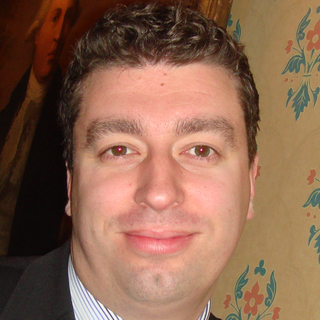eye: (173, 138, 224, 168), (96, 141, 144, 165)
